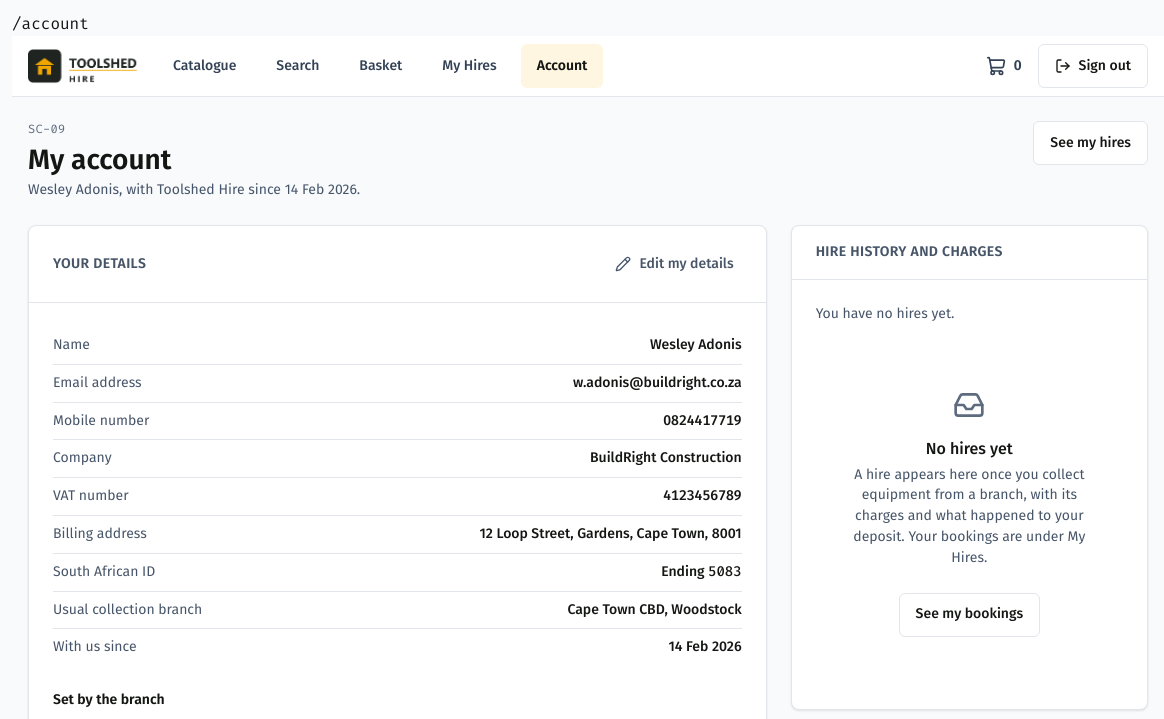
Scenario: the loaded profile › shows the standing, the discount and the customer type read only, and says the branch changes them
expect the heading "Your details" is shown: met, box [53, 254, 146, 274]
expect the text "BuildRight Construction" is shown: met, box [590, 448, 742, 469]
Click the button "Edit my details" at [675, 264], box [608, 242, 742, 286]
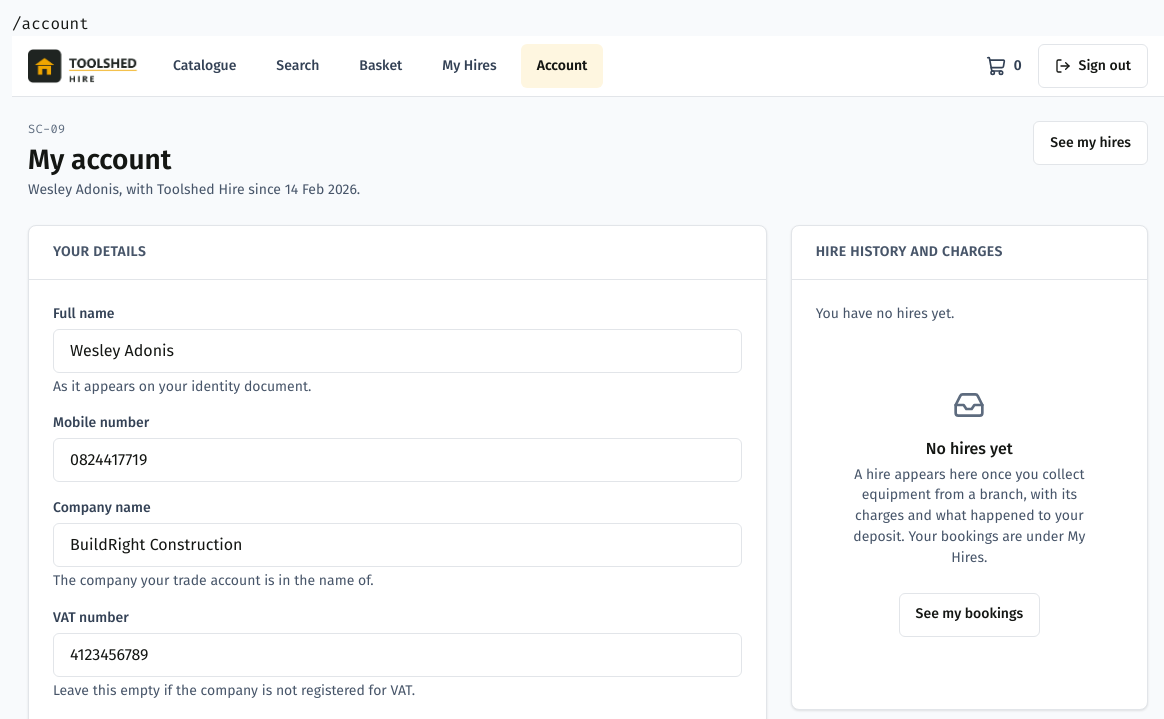
expect the text labelled "Email address" is gone: met
